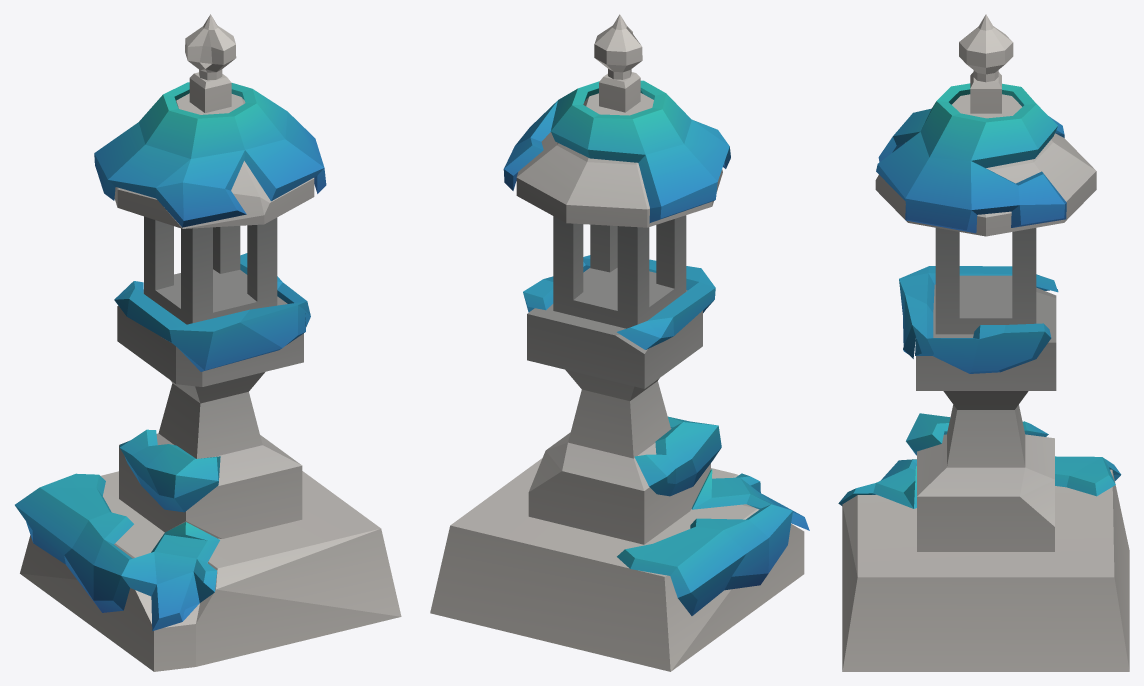
File: m_StoneLanternRoundedMoss.fbx
The picture shows the model from 3 angles, left to right: view 1: azimuth 30°, elevation 25°; view 2: azimuth 150°, elevation 25°; view 3: azimuth 270°, elevation 25°; orthographic projection. The views are drawn at different scales.
Parts seen in each view (by area): view 1: StoneLanternRoundedMoss; view 2: StoneLanternRoundedMoss; view 3: StoneLanternRoundedMoss.
Boxes of the visible parts, x1=… form: StoneLanternRoundedMoss: x1=15, y1=14, x2=401, y2=671; StoneLanternRoundedMoss: x1=430, y1=14, x2=809, y2=671; StoneLanternRoundedMoss: x1=838, y1=14, x2=1129, y2=671.
Size of the model in its own units: 108 by 235 by 104.
